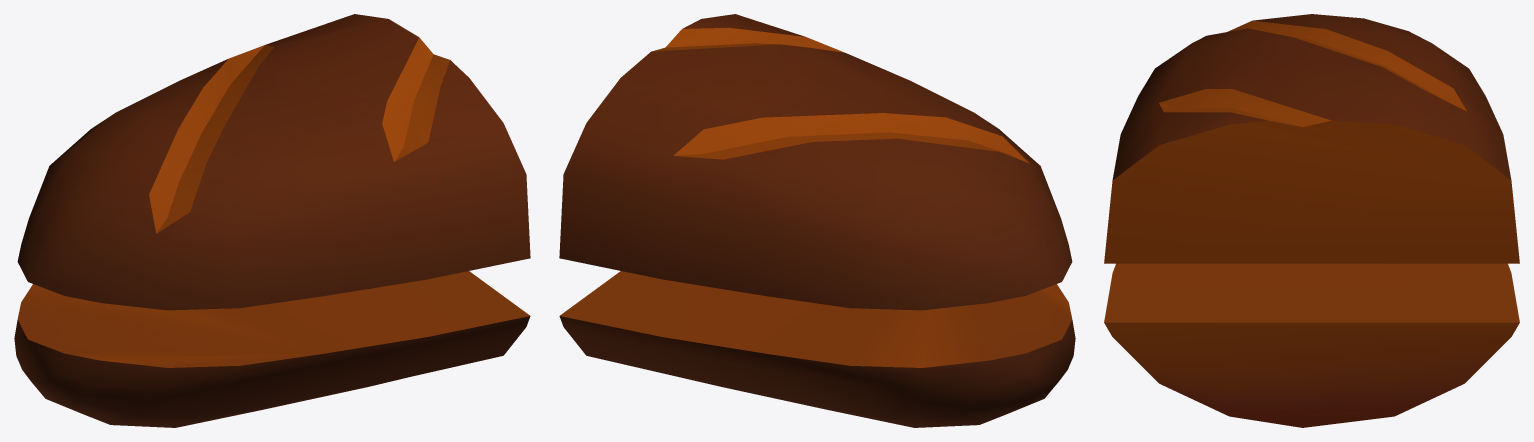
Rendered from Sandwich_Loaf_top_half.005.fbx.
The picture shows the model from 3 angles, left to right: view 1: azimuth 30°, elevation 25°; view 2: azimuth 150°, elevation 25°; view 3: azimuth 270°, elevation 25°; orthographic projection. The views are drawn at different scales.
Visible parts, largest first — view 1: Sandwich_Loaf_top_half.005, Sandwich_Loaf_Bottom_half.005; view 2: Sandwich_Loaf_top_half.005, Sandwich_Loaf_Bottom_half.005; view 3: Sandwich_Loaf_top_half.005, Sandwich_Loaf_Bottom_half.005.
Boxes of the visible parts, left/top/right/bottom form: Sandwich_Loaf_top_half.005: left=17, top=14, right=530, bottom=310; Sandwich_Loaf_Bottom_half.005: left=14, top=271, right=530, bottom=427; Sandwich_Loaf_top_half.005: left=559, top=14, right=1072, bottom=310; Sandwich_Loaf_Bottom_half.005: left=559, top=271, right=1075, bottom=427; Sandwich_Loaf_top_half.005: left=1104, top=14, right=1519, bottom=263; Sandwich_Loaf_Bottom_half.005: left=1104, top=263, right=1519, bottom=427.
Bounding box in the file's own units: 85.77 × 61.42 × 75.14.
